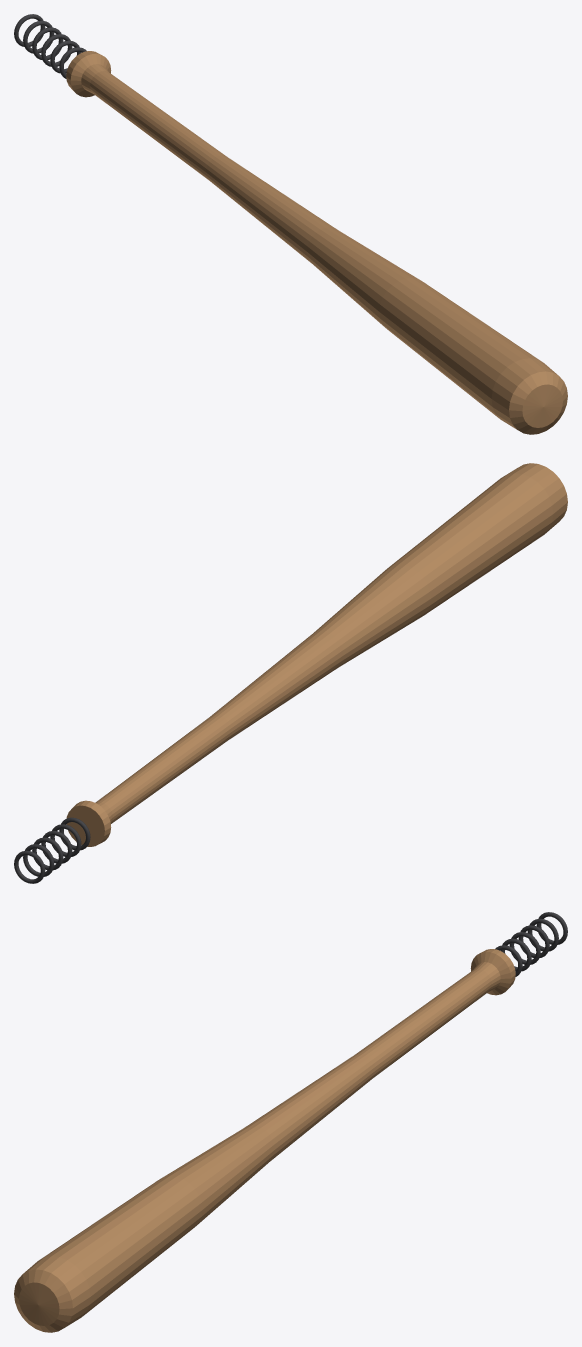
The model's file is gun_bat.glb.
3 renders of one model, top to bottom at view 1: azimuth 30°, elevation 25°; view 2: azimuth 150°, elevation 25°; view 3: azimuth 330°, elevation 25°, orthographic.
Parts seen in each view (by area): view 1: gun_bat; view 2: gun_bat; view 3: gun_bat.
Part boxes in pixels (x1,y1,x2,y2): gun_bat: (14, 14, 567, 434); gun_bat: (14, 463, 567, 883); gun_bat: (14, 912, 567, 1332).
Bounding box in the file's own units: 0.067 × 0.067 × 0.9672.
